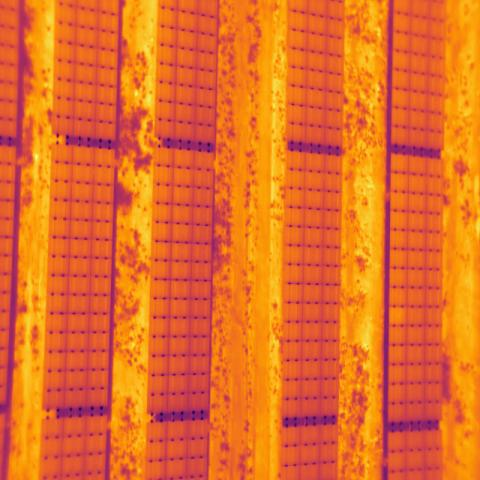fault: (390, 306, 408, 325)
